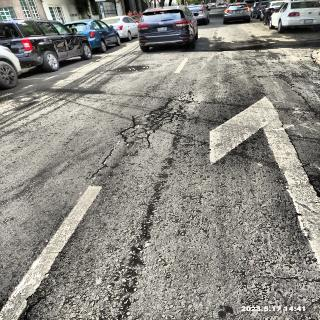alligator-crack: (120, 83, 197, 153)
pothole: (114, 63, 151, 73)
